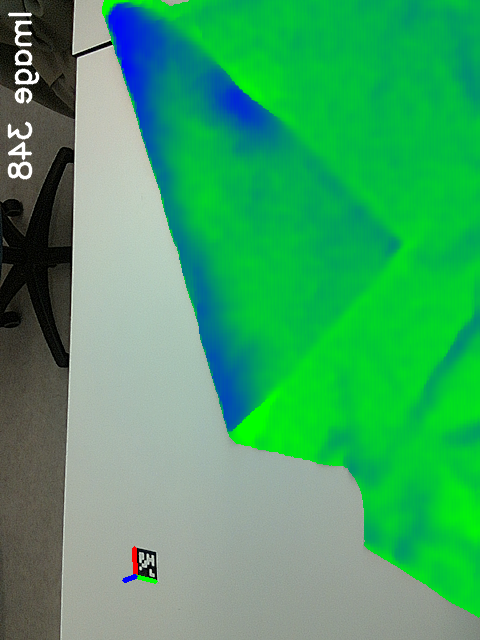V: (346, 204, 418, 276)
